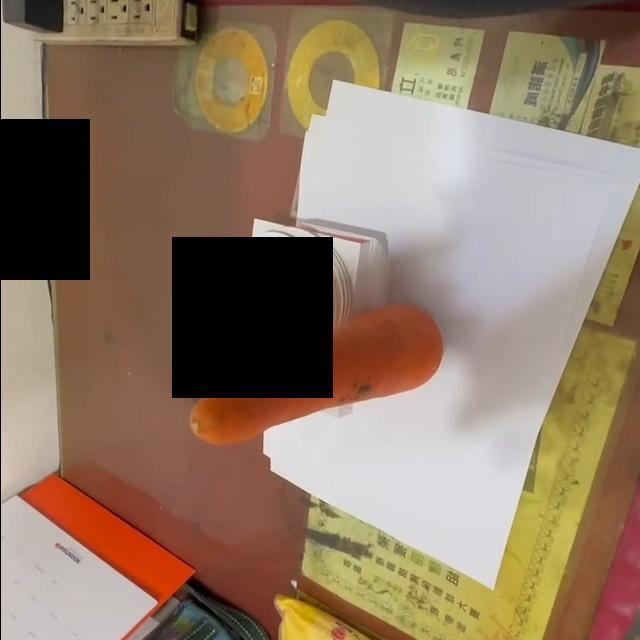carrot: (187, 304, 446, 447)
